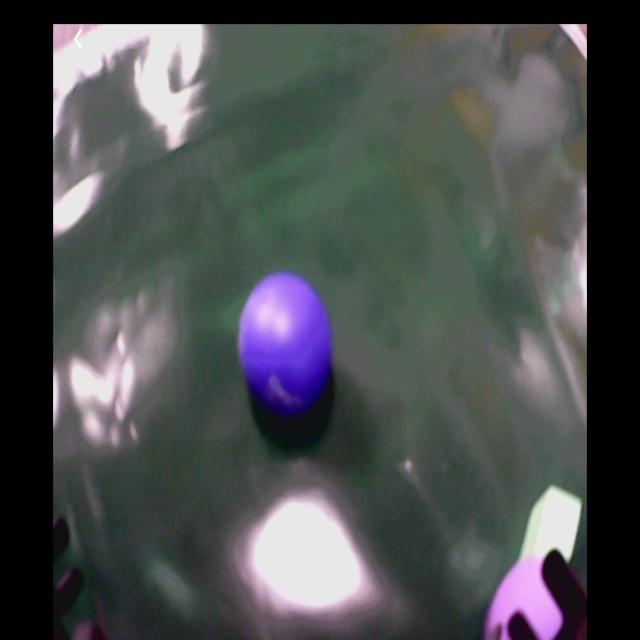ball: (240, 272, 334, 418), (487, 562, 573, 640)
